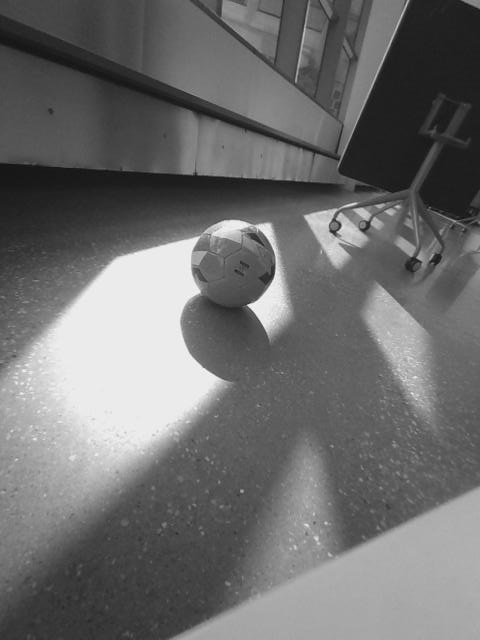ball: (187, 216, 280, 310)
